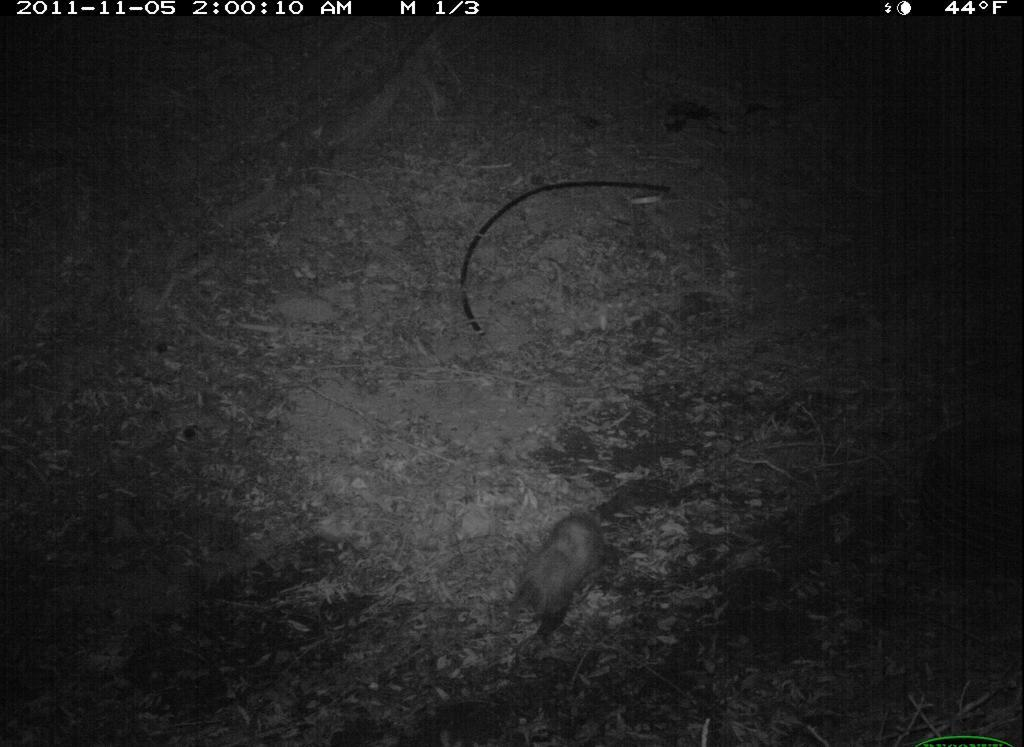opossum: (483, 493, 635, 653)
